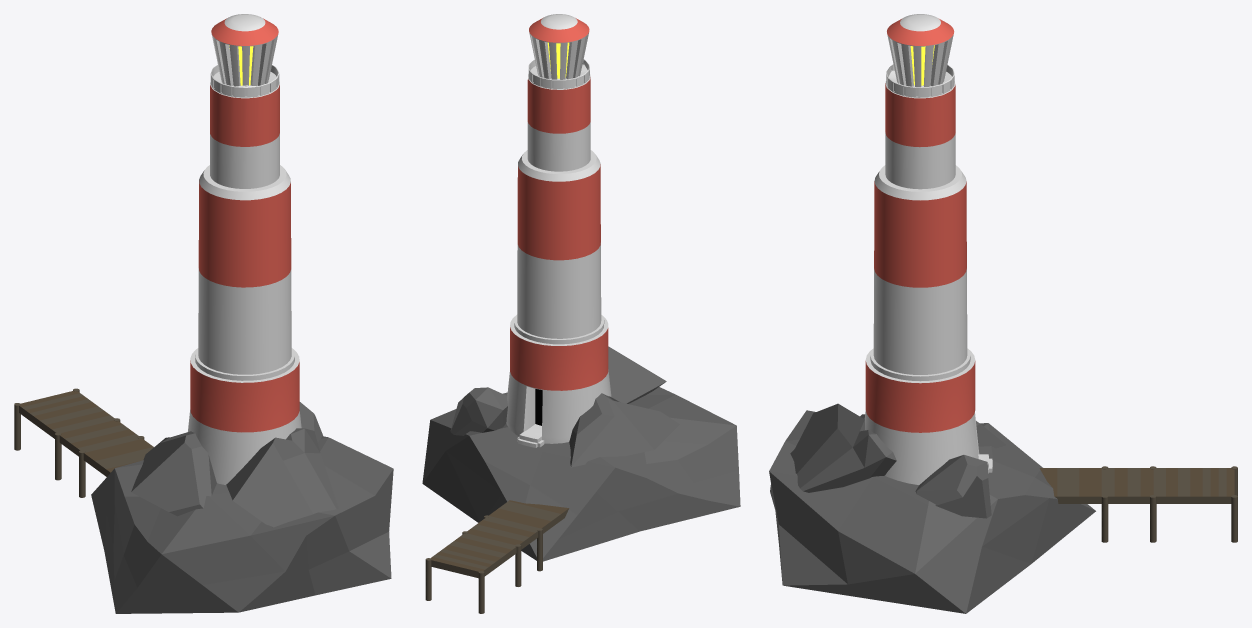
The model's file is lighthouse.glb.
3 renders of one model, left to right at view 1: azimuth 30°, elevation 25°; view 2: azimuth 150°, elevation 25°; view 3: azimuth 270°, elevation 25°, orthographic. The views are drawn at different scales.
Visible parts, largest first — view 1: Latarnia, Dużykamień, Kamien3, Pomocst, Kamien2; view 2: Latarnia, Dużykamień, Pomocst, Kamien2, Kamien1, Kamien3; view 3: Latarnia, Dużykamień, Pomocst, Kamien3, Kamien1.
Boxes of the visible parts, x1,y1,x2,y2 form: Latarnia: (188,14,301,484); Dużykamień: (91,436,393,613); Kamien3: (226,428,338,527); Pomocst: (14,388,153,497); Kamien2: (131,431,216,516); Latarnia: (506,14,611,447); Dużykamień: (422,387,740,561); Pomocst: (425,500,569,613); Kamien2: (569,393,679,467); Kamien1: (450,387,507,435); Kamien3: (608,346,666,403); Latarnia: (864,14,992,484); Dużykamień: (769,410,1095,613); Pomocst: (1039,466,1237,542); Kamien3: (790,403,896,492); Kamien1: (915,455,991,518).
Bounding box in the file's own units: 18.56 × 30.2 × 24.19.
